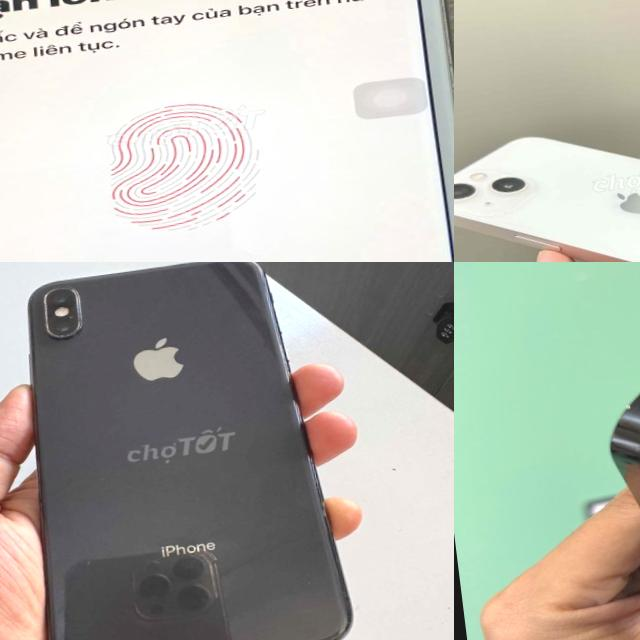gen_12_13: (454, 93, 640, 262)
gen_14: (571, 262, 640, 589)
gen_7_8: (0, 0, 454, 262)
gen_x_xs: (1, 262, 355, 640)
scratch: (74, 290, 92, 328), (23, 289, 41, 305)
